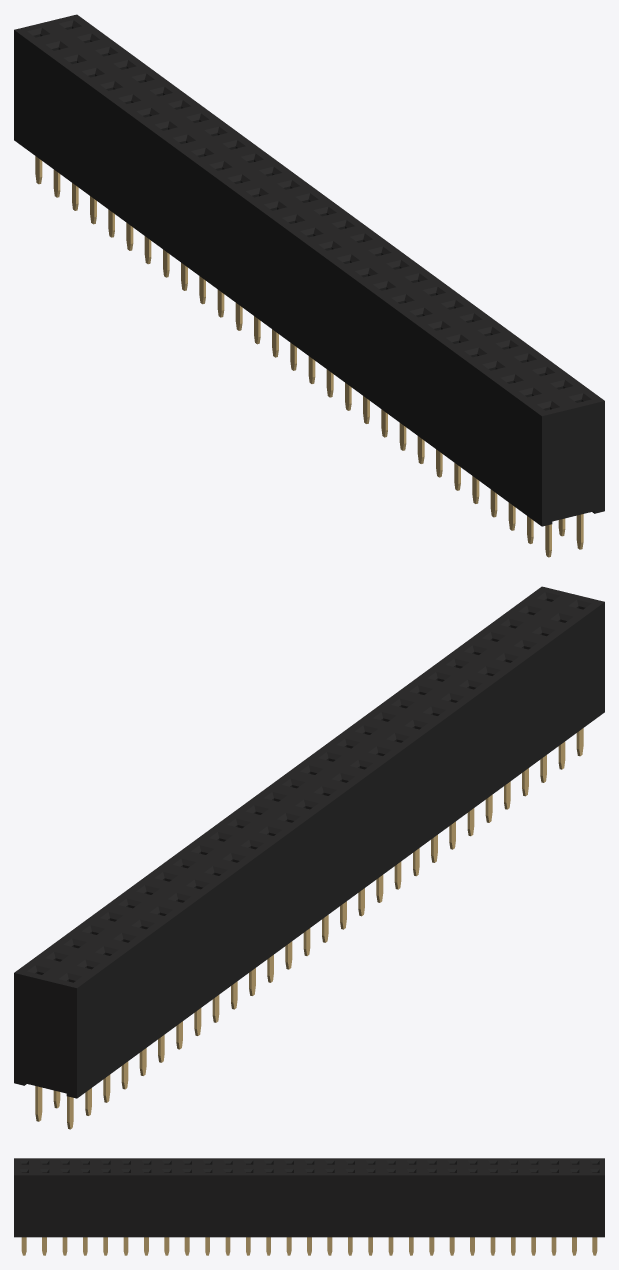
File: kc-pinsocket_2x29_p2.54mm_vertical.glb
3 renders of one model, top to bottom at view 1: azimuth 30°, elevation 25°; view 2: azimuth 150°, elevation 25°; view 3: azimuth 270°, elevation 25°, orthographic. The views are drawn at different scales.
Visible parts, largest first — view 1: 0_0_0_0, 0.75_0.5_0.25_0.9; view 2: 0_0_0_0, 0.75_0.5_0.25_0.9; view 3: 0_0_0_0, 0.75_0.5_0.25_0.9.
Boxes of the visible parts, left/top/right/bottom form: 0_0_0_0: left=14, top=14, right=604, bottom=526; 0.75_0.5_0.25_0.9: left=35, top=156, right=583, bottom=557; 0_0_0_0: left=14, top=586, right=604, bottom=1098; 0.75_0.5_0.25_0.9: left=35, top=728, right=583, bottom=1129; 0_0_0_0: left=14, top=1158, right=604, bottom=1237; 0.75_0.5_0.25_0.9: left=21, top=1237, right=597, bottom=1255.
Size of the model in its own units: 0.508 by 1.16 by 7.37.
